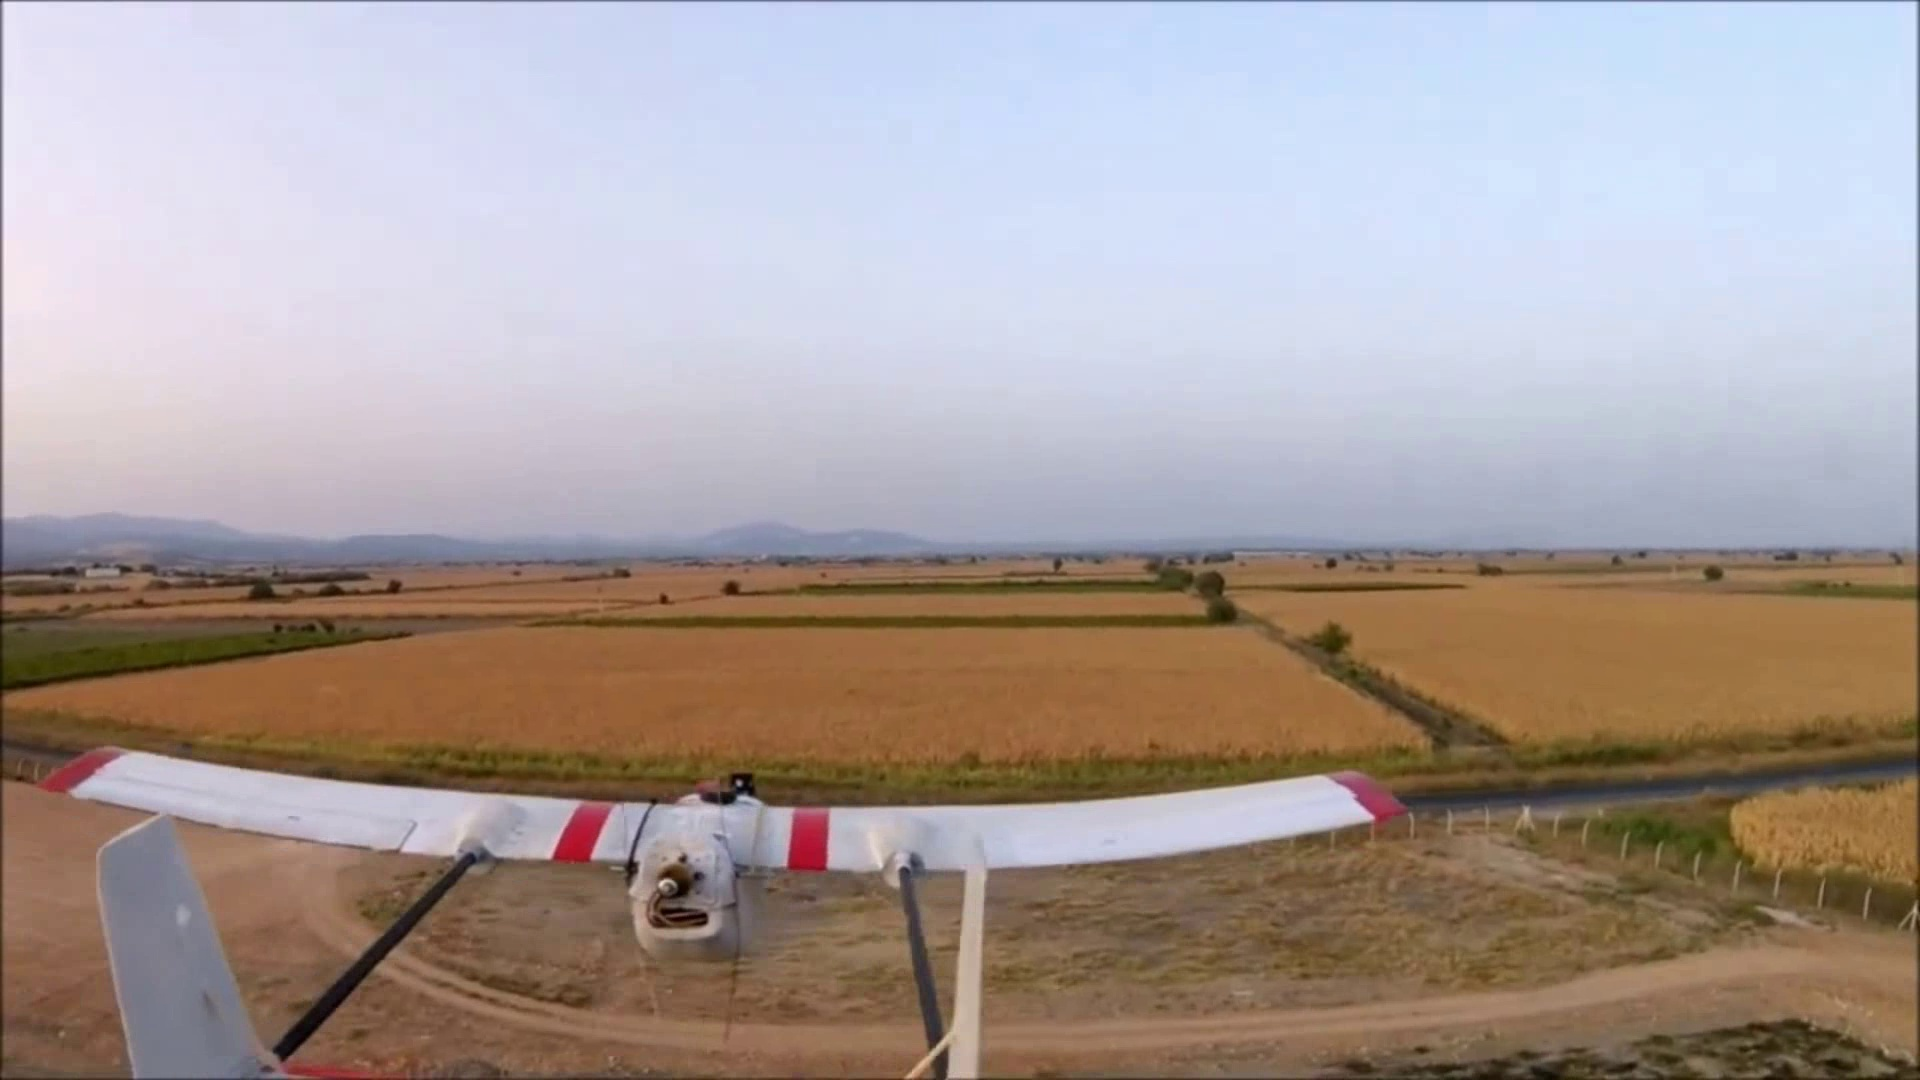airplane: (26, 738, 1455, 1079)
